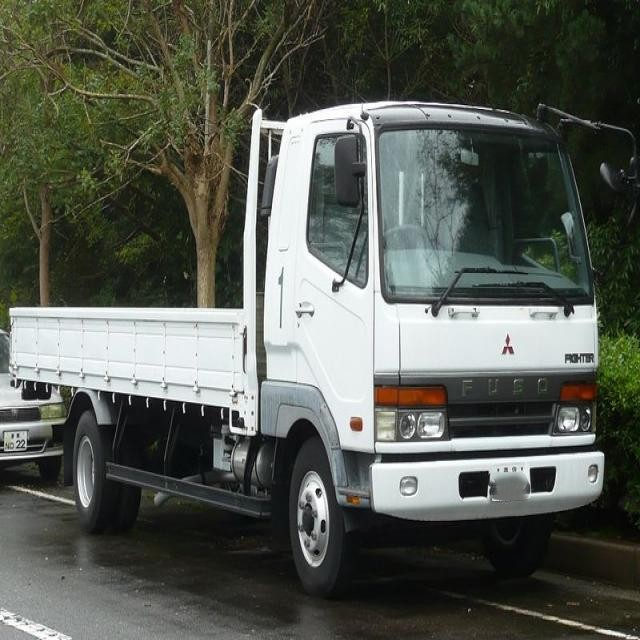truck: (11, 99, 605, 596), (4, 323, 100, 491)
